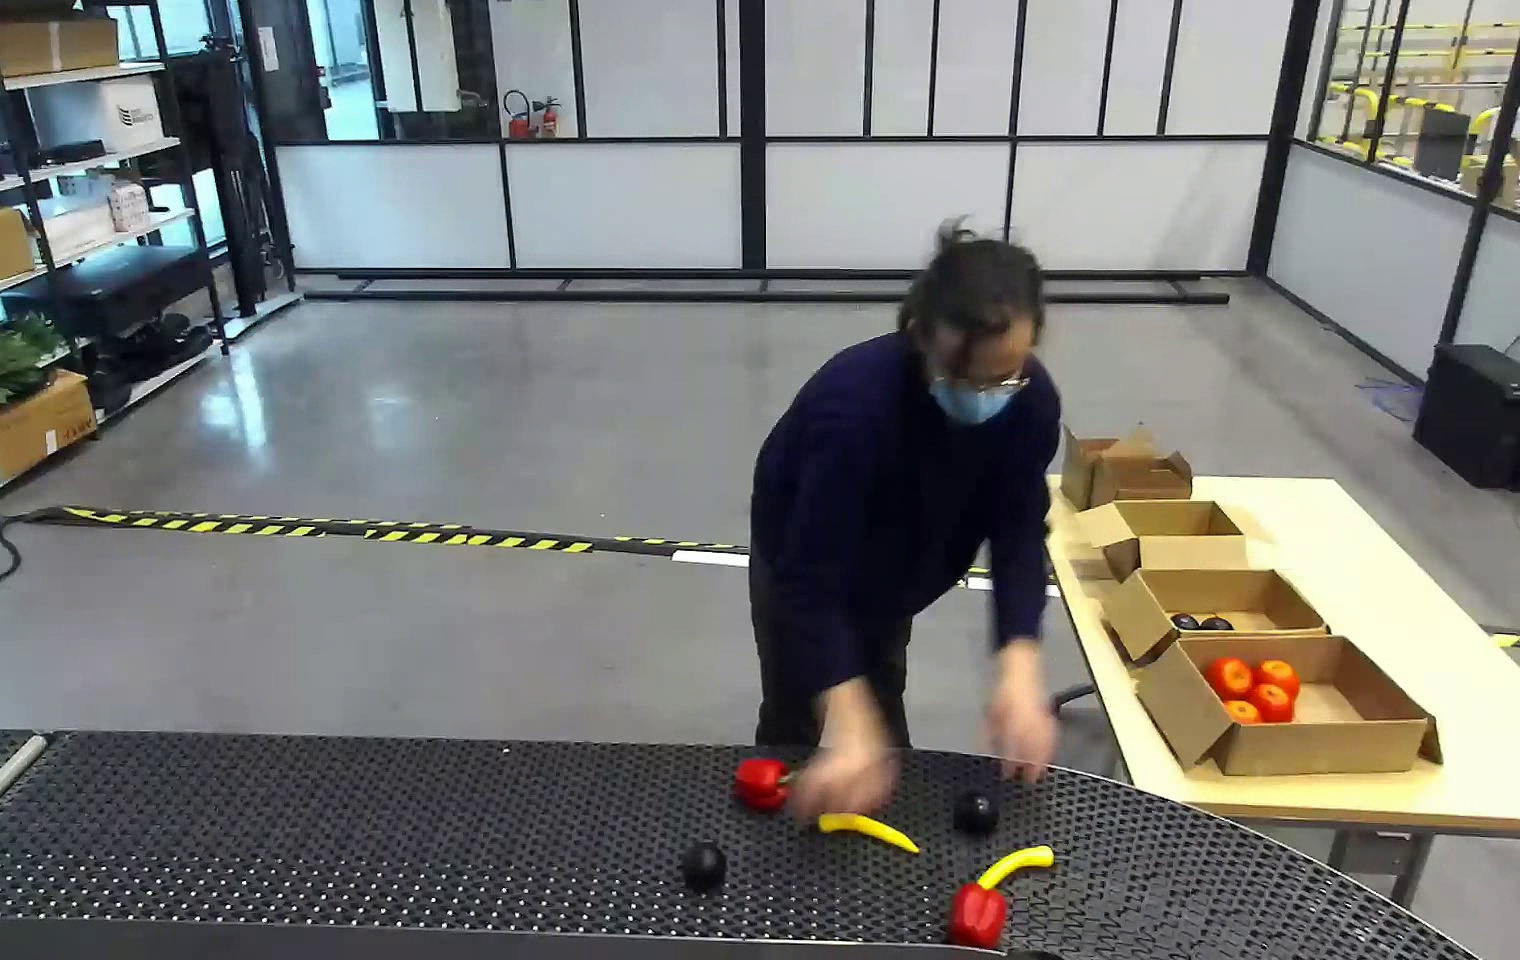Main droite: (910, 726, 986, 815)
